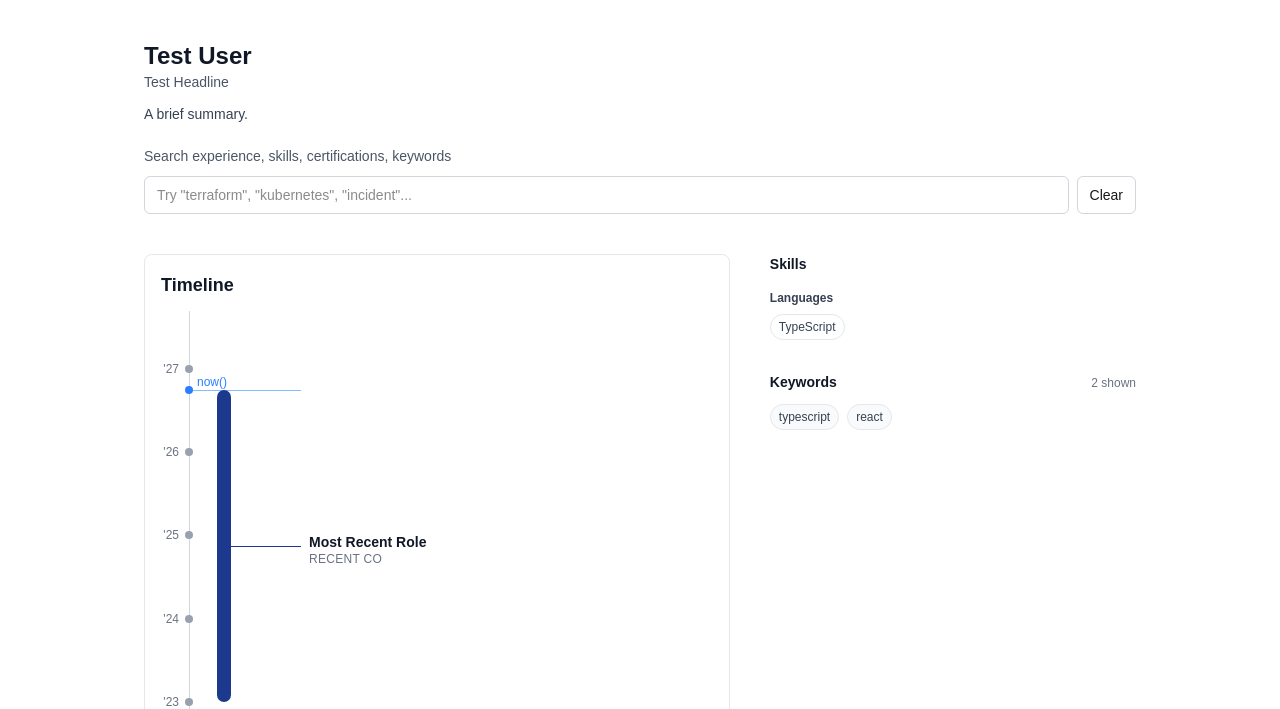
Test: Home page › clicking a keyword chip sets the search query
Click the button "react": (870, 417) [847,404,892,430]
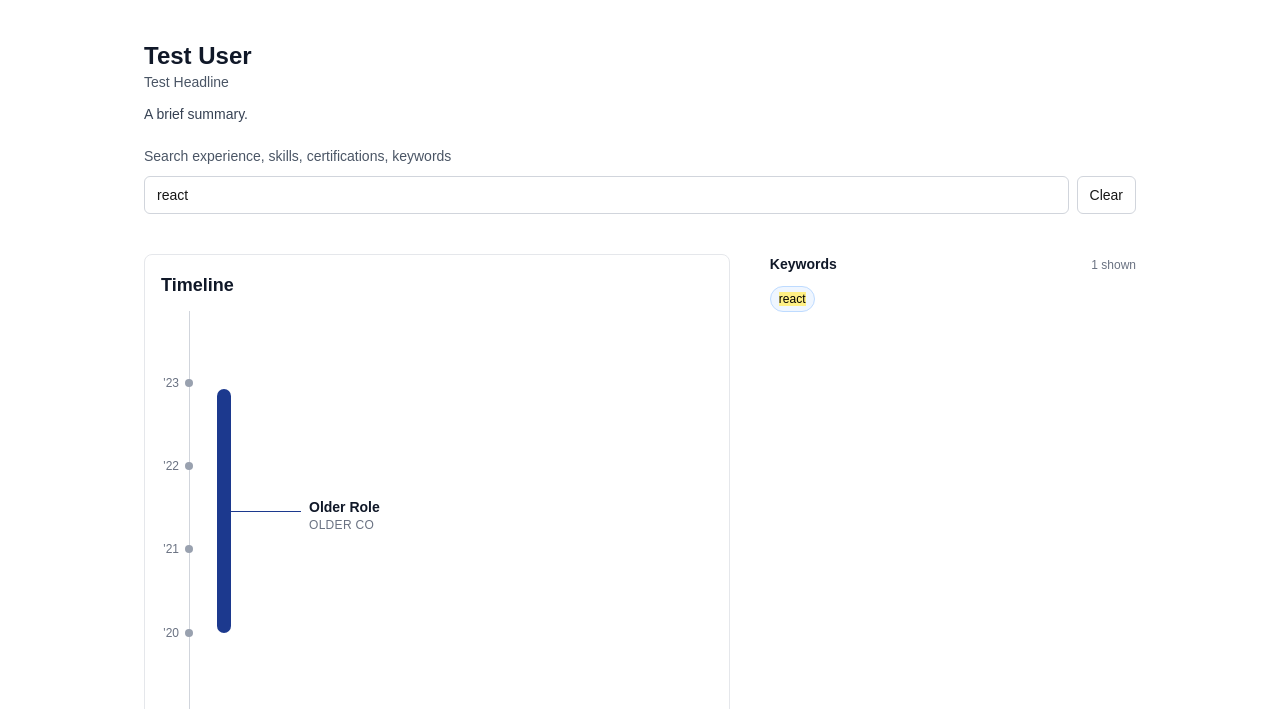
Expected: the field with placeholder "Try \"terraform\", \"kubernetes\", \"incident\"..." holds "react", [144,176,1068,214]
